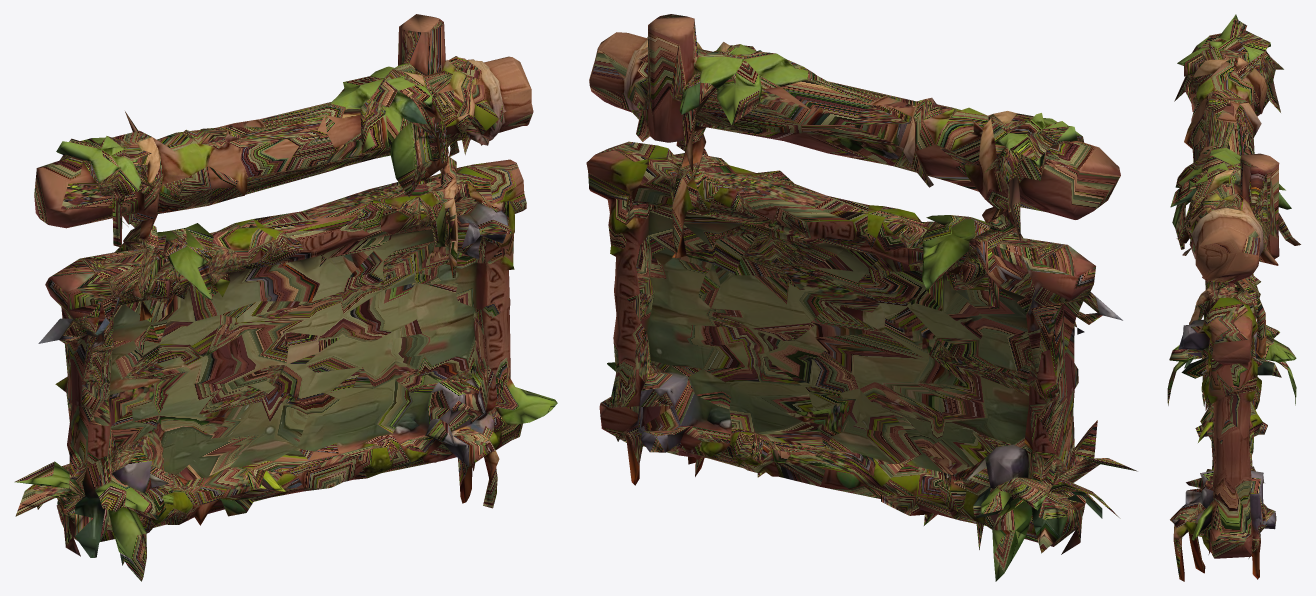
Rendered from jungle_ruin_sign_02.glb.
3 views of the same model, side by side, from view 1: azimuth 30°, elevation 25°; view 2: azimuth 150°, elevation 25°; view 3: azimuth 270°, elevation 25° (orthographic). The views are drawn at different scales.
Parts seen in each view (by area): view 1: tripo_node_ecbc92d2-0512-49cb-a974-efb4c1572866; view 2: tripo_node_ecbc92d2-0512-49cb-a974-efb4c1572866; view 3: tripo_node_ecbc92d2-0512-49cb-a974-efb4c1572866.
Boxes of the visible parts, <box> form: tripo_node_ecbc92d2-0512-49cb-a974-efb4c1572866: <box>14,14,557,581</box>; tripo_node_ecbc92d2-0512-49cb-a974-efb4c1572866: <box>586,14,1137,581</box>; tripo_node_ecbc92d2-0512-49cb-a974-efb4c1572866: <box>1167,14,1300,581</box>.
Size of the model in its own units: 0.979 by 0.8189 by 0.2424.
Materials: 1 (1 with a texture image).
